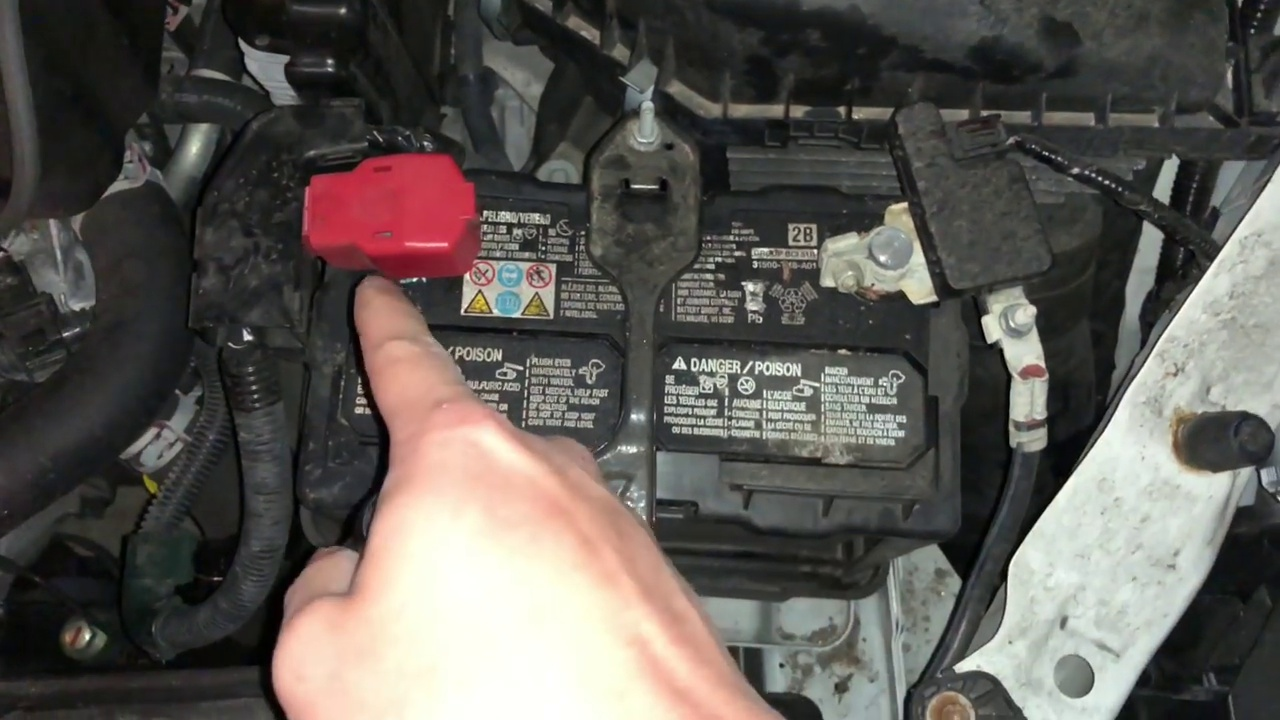battery: (294, 157, 968, 539)
neg_connected: (792, 157, 938, 320)
pos_connected: (266, 148, 514, 281)
pos_touched: (305, 159, 521, 419)
